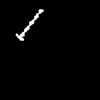half_double_crochet: (16, 9, 42, 39)
